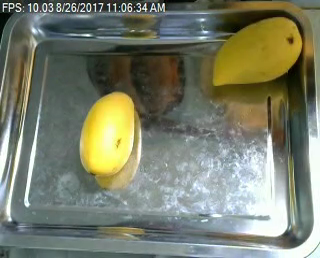Mango: (205, 11, 310, 96), (74, 89, 142, 180)
